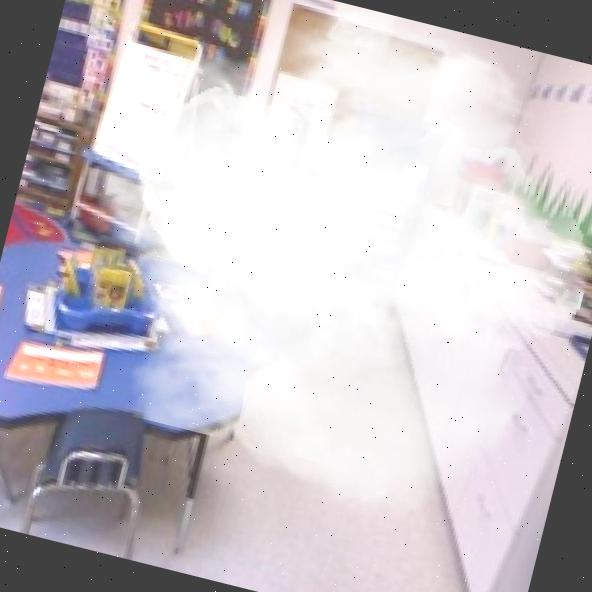smoke: (14, 0, 592, 560)
